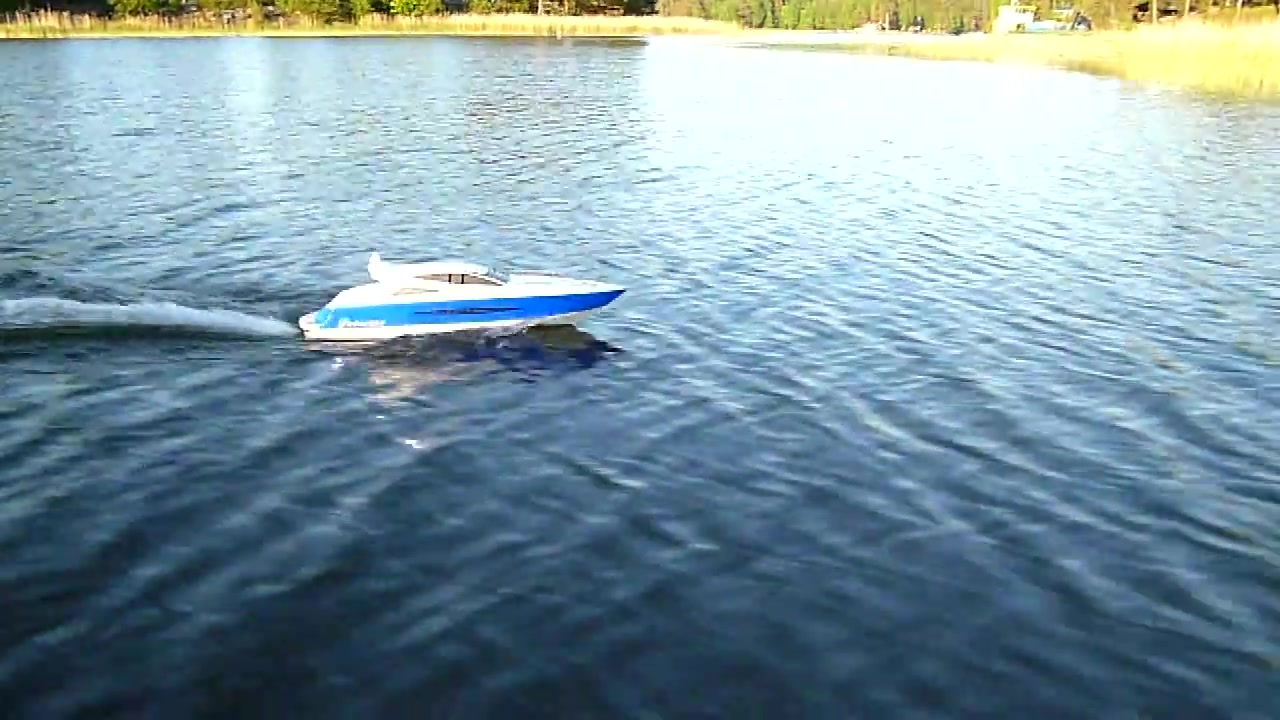boat: (298, 253, 628, 355)
